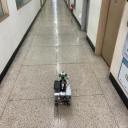cart: (54, 80, 72, 106)
